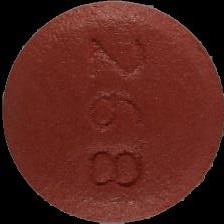31722-268: (0, 0, 224, 224)
